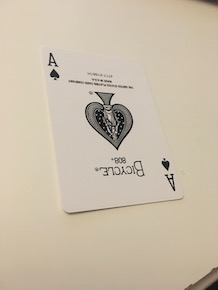AceOfSpades: (36, 42, 185, 219)
